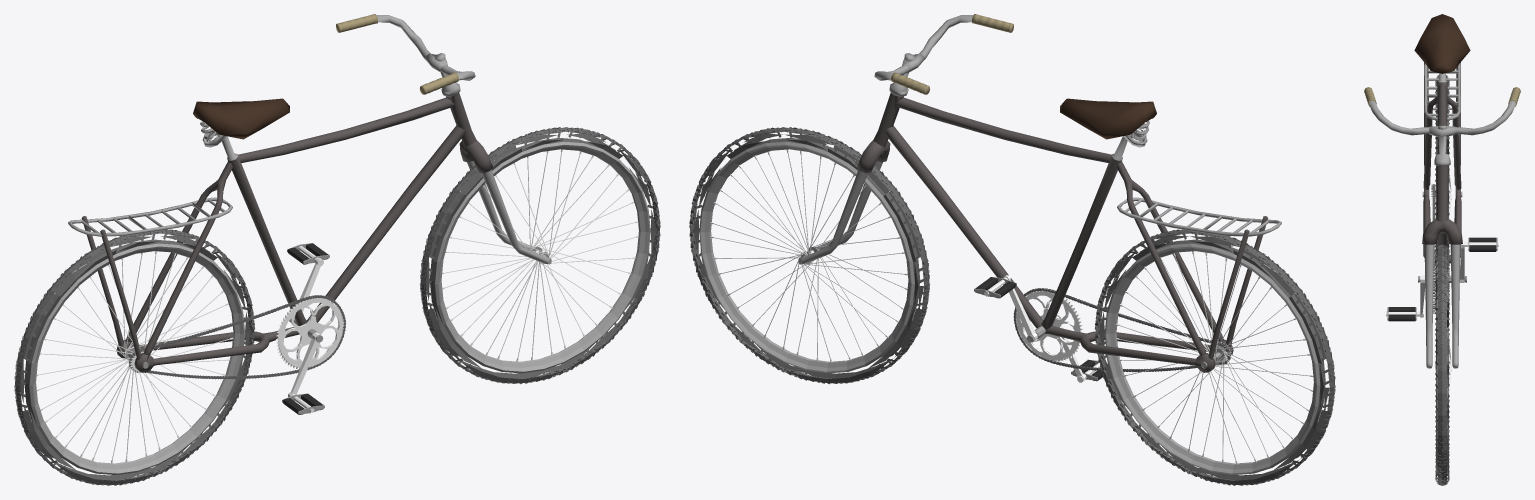
Rendered from bicycle.glb.
3 renders of one model, left to right at view 1: azimuth 30°, elevation 25°; view 2: azimuth 150°, elevation 25°; view 3: azimuth 270°, elevation 25°, orthographic. The views are drawn at different scales.
Visible parts, largest first — view 1: Bicycle-Body, Bicycle-Front-Tire, Bicycle-Back-Tire, Bicycle-Front-Tire-Ring, Bicycle-Back-Tire-Ring, Bicycle-Front-Tire-Pattern, Bicycle-Back-Tire-Pattern, Bicycle-Seat, Bicycle-Center-Gear, Bicycle-Tark, Bicycle-HandleBars, Bicycle-Chain (+9 smaller); view 2: Bicycle-Body, Bicycle-Back-Tire, Bicycle-Front-Tire, Bicycle-Front-Tire-Ring, Bicycle-Back-Tire-Ring, Bicycle-Front-Tire-Pattern, Bicycle-Back-Tire-Pattern, Bicycle-Seat, Bicycle-Tark, Bicycle-HandleBars, Bicycle-Center-Gear, Bicycle-Chain (+9 smaller); view 3: Bicycle-Body, Bicycle-Front-Tire, Bicycle-Seat, Bicycle-Front-Tire-Pattern, Bicycle-HandleBars, Bicycle-Tark, Bicycle-Pedals, Bicycle-Front-Tire-Ring, Bicycle-Left-Pedal, Bicycle-Right-Pedal, Bicycle-Chain, Bicycle-Back-Tire-Pattern (+2 smaller).
Boxes of the visible parts, x1=… form: Bicycle-Body: x1=81, y1=53, x2=551, y2=372; Bicycle-Front-Tire: x1=420, y1=127, x2=659, y2=383; Bicycle-Back-Tire: x1=15, y1=230, x2=254, y2=484; Bicycle-Front-Tire-Ring: x1=431, y1=141, x2=650, y2=373; Bicycle-Back-Tire-Ring: x1=29, y1=243, x2=245, y2=474; Bicycle-Front-Tire-Pattern: x1=420, y1=127, x2=660, y2=384; Bicycle-Back-Tire-Pattern: x1=14, y1=229, x2=254, y2=485; Bicycle-Seat: x1=193, y1=98, x2=289, y2=147; Bicycle-Center-Gear: x1=279, y1=298, x2=343, y2=366; Bicycle-Tark: x1=68, y1=197, x2=232, y2=236; Bicycle-HandleBars: x1=336, y1=14, x2=475, y2=94; Bicycle-Chain: x1=128, y1=295, x2=345, y2=379; Bicycle-Body: x1=798, y1=53, x2=1268, y2=372; Bicycle-Back-Tire: x1=1095, y1=230, x2=1334, y2=484; Bicycle-Front-Tire: x1=690, y1=127, x2=929, y2=383; Bicycle-Front-Tire-Ring: x1=699, y1=141, x2=918, y2=373; Bicycle-Back-Tire-Ring: x1=1104, y1=243, x2=1320, y2=474; Bicycle-Front-Tire-Pattern: x1=689, y1=127, x2=929, y2=384; Bicycle-Back-Tire-Pattern: x1=1095, y1=229, x2=1335, y2=485; Bicycle-Seat: x1=1060, y1=98, x2=1156, y2=147; Bicycle-Tark: x1=1117, y1=197, x2=1281, y2=236; Bicycle-HandleBars: x1=874, y1=14, x2=1013, y2=94; Bicycle-Center-Gear: x1=1016, y1=291, x2=1080, y2=360; Bicycle-Chain: x1=1014, y1=288, x2=1230, y2=372; Bicycle-Body: x1=1418, y1=62, x2=1466, y2=368; Bicycle-Front-Tire: x1=1436, y1=245, x2=1448, y2=484; Bicycle-Seat: x1=1414, y1=14, x2=1470, y2=73; Bicycle-Front-Tire-Pattern: x1=1435, y1=244, x2=1449, y2=485; Bicycle-HandleBars: x1=1364, y1=87, x2=1520, y2=135; Bicycle-Tark: x1=1424, y1=63, x2=1460, y2=120; Bicycle-Pedals: x1=1386, y1=241, x2=1498, y2=317; Bicycle-Front-Tire-Ring: x1=1436, y1=258, x2=1448, y2=473; Bicycle-Left-Pedal: x1=1468, y1=237, x2=1497, y2=251; Bicycle-Right-Pedal: x1=1387, y1=307, x2=1416, y2=321; Bicycle-Chain: x1=1432, y1=184, x2=1435, y2=313; Bicycle-Back-Tire-Pattern: x1=1435, y1=75, x2=1449, y2=308.
Bounding box in the file's own units: 1.95 × 1.07 × 0.4703.
